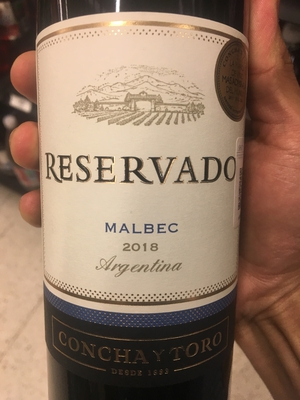reservado malbec: (31, 6, 255, 399)
